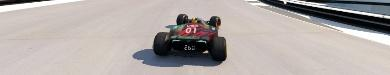Car: (152, 13, 226, 60)
